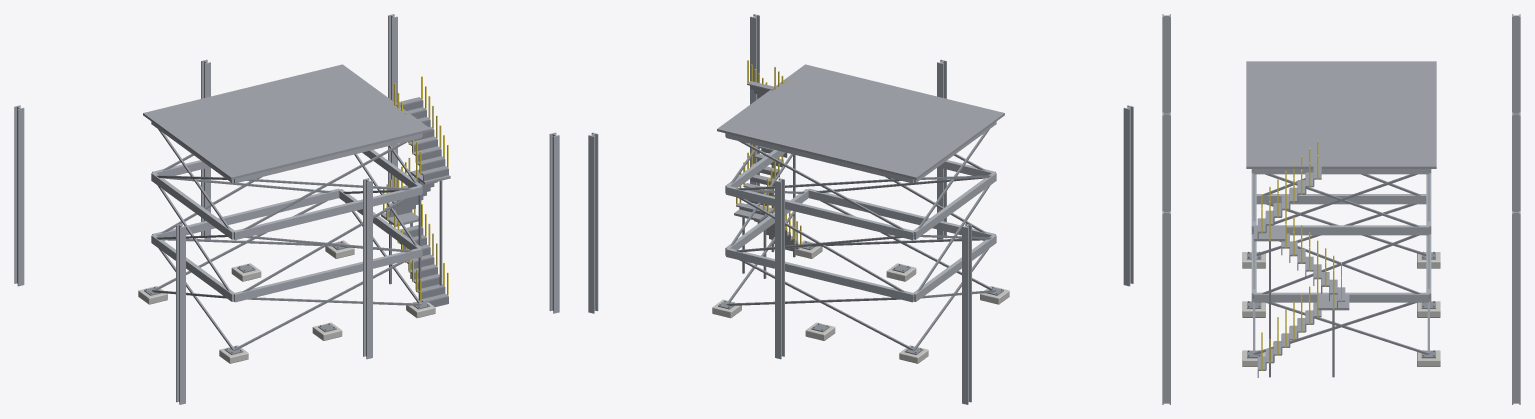
Rendered from DCS_Support.fbx.
The picture shows the model from 3 angles, left to right: view 1: azimuth 30°, elevation 25°; view 2: azimuth 150°, elevation 25°; view 3: azimuth 270°, elevation 25°; orthographic projection. The views are drawn at different scales.
Parts seen in each view (by area): view 1: Deck_Grate, BeamX_F_2.7, BeamX_F_5.5, BeamX_B_2.7, Col_2_flA, Col_0_flA, Col_4_flA, Col_1_flA, BeamX_F_8.1, BeamY_L_5.5, BeamY_L_2.7, Col_3_flA (+12 smaller); view 2: Deck_Grate, BeamX_B_2.7, BeamX_B_5.5, BeamX_F_2.7, Col_0_flB, Col_2_flB, Col_5_flB, Col_3_flB, BeamX_B_8.1, BeamY_L_5.5, BeamY_L_2.7, Col_3_flA (+12 smaller); view 3: Deck_Grate, BeamY_L_2.7, BeamY_R_5.5, BeamY_R_2.7, Col_1_web, Col_3_web, BeamY_R_8.1, Col_0_web, Col_2_web, Col_4_web, Col_5_web, Brace_4.4_0.34_b (+13 smaller).
Boxes of the visible parts, <box> form: Deck_Grate: <box>143,64,430,179</box>; BeamX_F_2.7: <box>233,247,421,302</box>; BeamX_F_5.5: <box>234,186,421,240</box>; BeamX_B_2.7: <box>152,188,340,240</box>; Col_2_flA: <box>17,107,24,286</box>; Col_0_flA: <box>179,226,185,404</box>; Col_4_flA: <box>366,180,372,359</box>; Col_1_flA: <box>553,135,559,313</box>; BeamX_F_8.1: <box>234,133,421,183</box>; BeamY_L_5.5: <box>151,172,235,239</box>; BeamY_L_2.7: <box>151,234,234,301</box>; Col_3_flA: <box>391,16,397,189</box>; Deck_Grate: <box>717,64,1004,179</box>; BeamX_B_2.7: <box>726,247,914,302</box>; BeamX_B_5.5: <box>726,186,913,240</box>; BeamX_F_2.7: <box>808,188,995,240</box>; Col_0_flB: <box>1123,107,1130,286</box>; Col_2_flB: <box>962,226,968,404</box>; Col_5_flB: <box>775,180,781,359</box>; Col_3_flB: <box>588,135,594,313</box>; BeamX_B_8.1: <box>726,133,913,183</box>; BeamY_L_5.5: <box>912,172,996,239</box>; BeamY_L_2.7: <box>913,235,996,301</box>; Col_3_flA: <box>591,132,598,311</box>; Deck_Grate: <box>1246,61,1436,168</box>; BeamY_L_2.7: <box>1256,194,1426,204</box>; BeamY_R_5.5: <box>1254,225,1428,235</box>; BeamY_R_2.7: <box>1254,292,1428,302</box>; Col_1_web: <box>1163,212,1170,403</box>; Col_3_web: <box>1512,212,1519,403</box>; BeamY_R_8.1: <box>1254,169,1428,174</box>; Col_0_web: <box>1163,15,1169,113</box>; Col_2_web: <box>1513,15,1519,113</box>; Col_4_web: <box>1163,113,1169,211</box>; Col_5_web: <box>1513,113,1519,211</box>; Brace_4.4_0.34_b: <box>1253,298,1429,354</box>.
Bounding box in the file's own units: 1788 × 930 × 1353.
